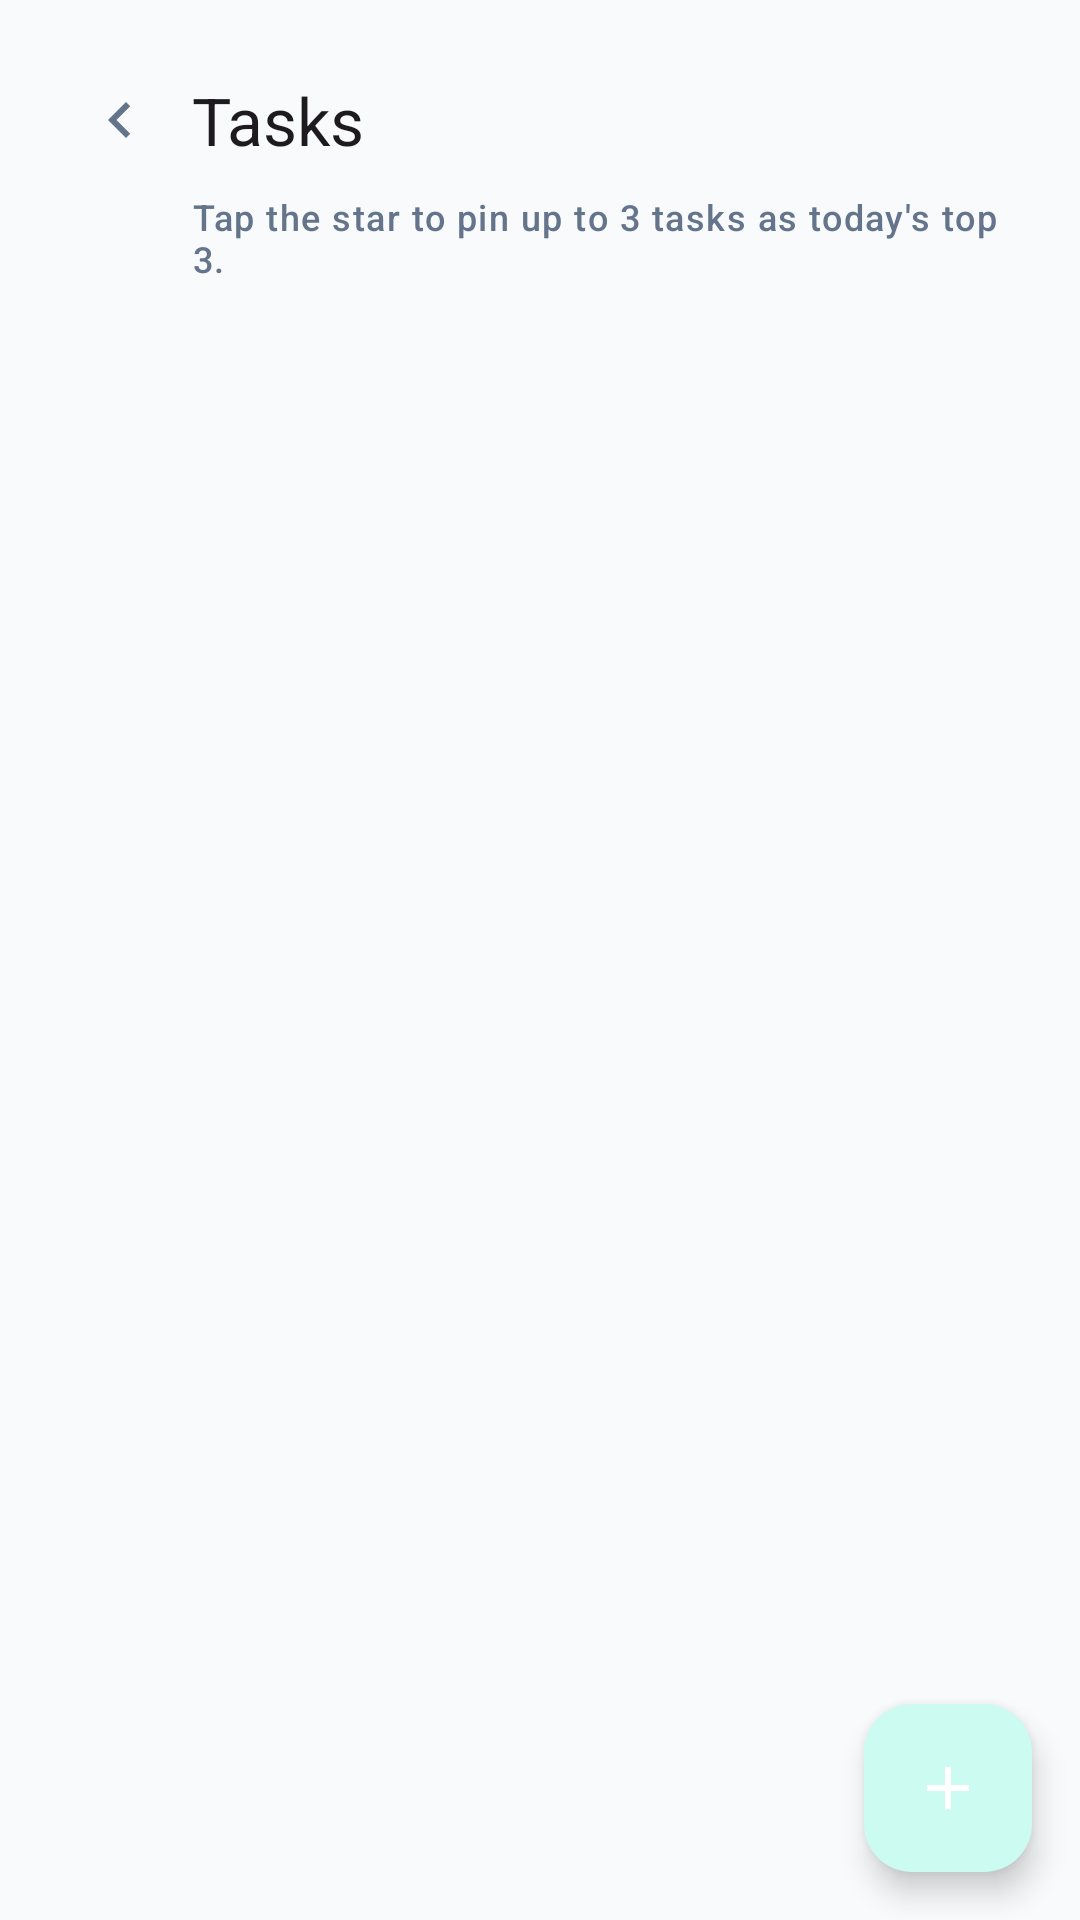

Screen size 1080×1920. Icon name, then its box in pixels as (x1, y1, x2, y2):
Add task: (864, 1704, 1032, 1872)
Back: (108, 102, 130, 138)
